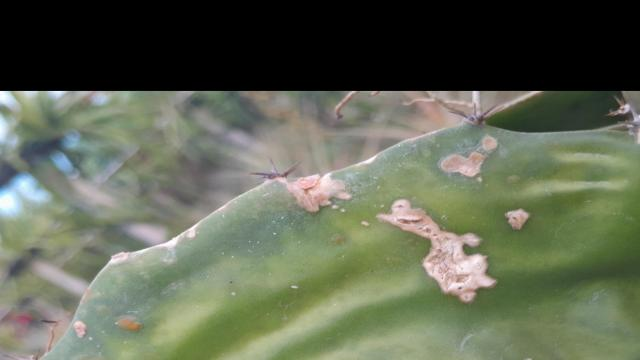stemcanker: (379, 195, 500, 305), (283, 171, 353, 215), (434, 148, 485, 180)
